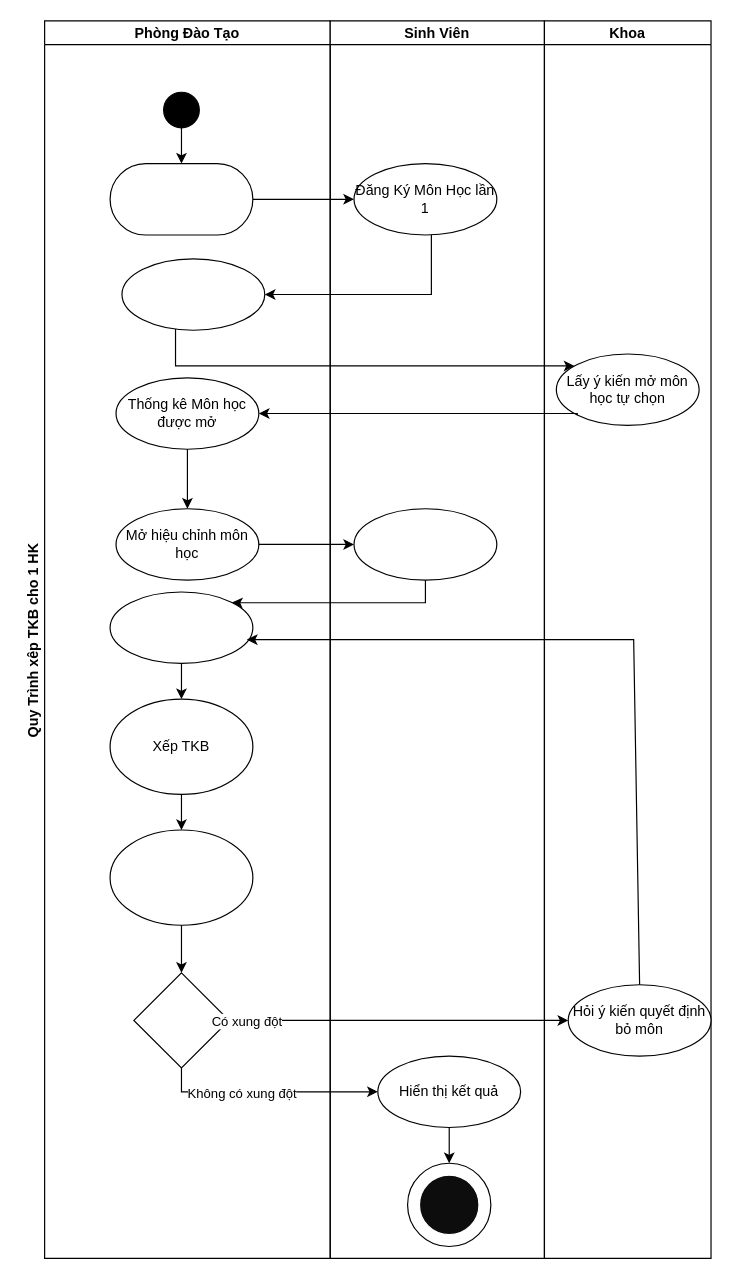
This 732x1279 diagram has some shape labels left out. Each missing label, with the centre of its shape:
"Kết qủa xếp" belongs at point 181,877.
"Lấy số lượng sinh viên đk môn tự chọn" belongs at point 193,294.
"Mở đăng ký môn học" belongs at point 181,198.
"Tạo dữ liệu xếp" belongs at point 181,627.
"Đăng ký môn học lần 2" belongs at point 425,544.
